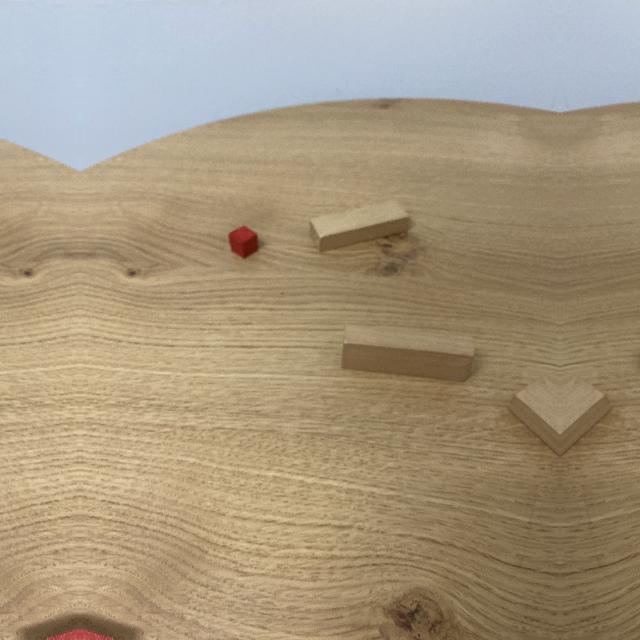jenga: (340, 323, 475, 382), (310, 202, 410, 253), (510, 378, 560, 456), (560, 378, 610, 456)
red cube: (228, 226, 260, 260)
